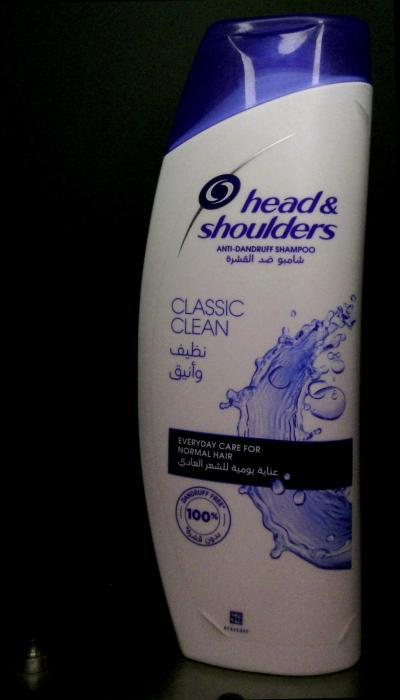adhesion_marg: (194, 607, 230, 638), (338, 614, 358, 644), (354, 100, 370, 128)
